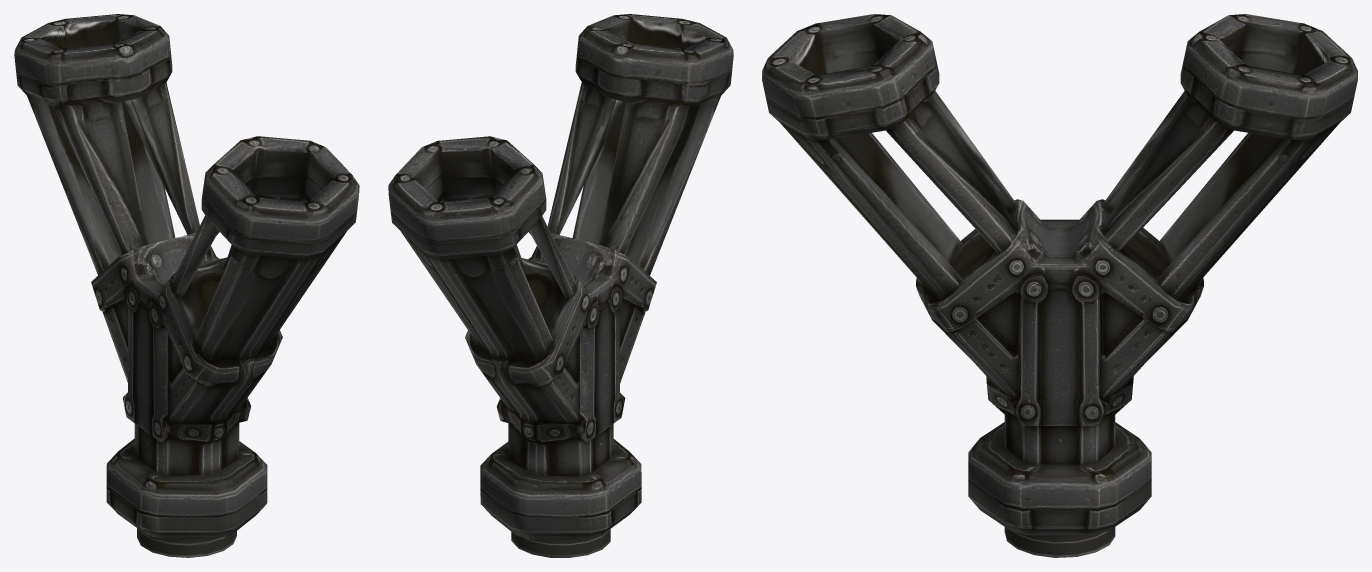
The model's file is cold-iron-v2-joint-c-yoke.glb.
The picture shows the model from 3 angles, left to right: view 1: azimuth 30°, elevation 25°; view 2: azimuth 150°, elevation 25°; view 3: azimuth 270°, elevation 25°; orthographic projection. The views are drawn at different scales.
Visible parts, largest first — view 1: tripo_node_d0cc645d-2a1b-44ad-92f5-b5e2c9b32b05; view 2: tripo_node_d0cc645d-2a1b-44ad-92f5-b5e2c9b32b05; view 3: tripo_node_d0cc645d-2a1b-44ad-92f5-b5e2c9b32b05.
Boxes of the visible parts, x1,y1,x2,y2 form: tripo_node_d0cc645d-2a1b-44ad-92f5-b5e2c9b32b05: (14,14,359,557); tripo_node_d0cc645d-2a1b-44ad-92f5-b5e2c9b32b05: (388,14,733,557); tripo_node_d0cc645d-2a1b-44ad-92f5-b5e2c9b32b05: (762,14,1357,557).
Bounding box in the file's own units: 0.2754 × 0.9199 × 0.998.
Materials: 1 (1 with a texture image).
